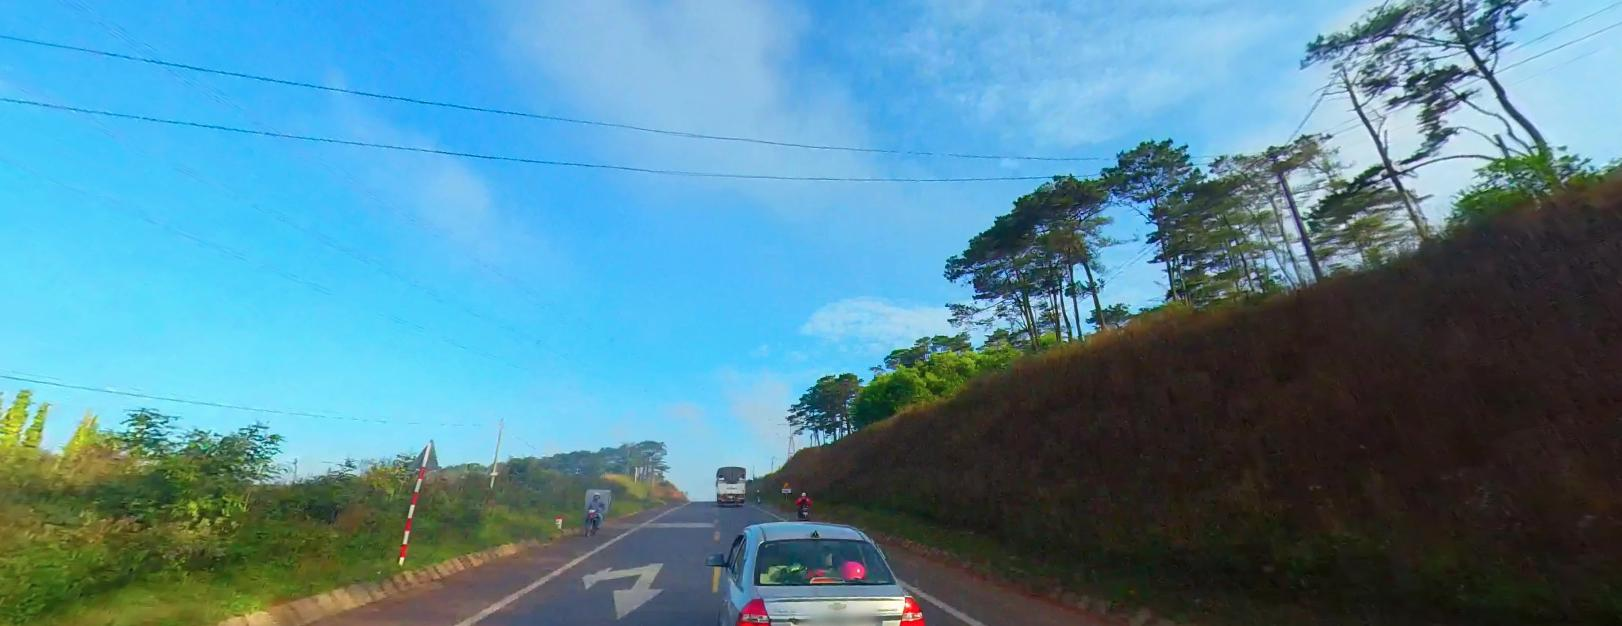Nguy hiem: (782, 479, 790, 486)
